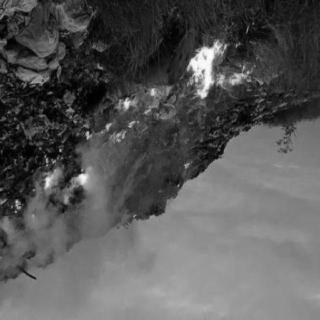Fire: (180, 42, 253, 104), (100, 124, 128, 150), (76, 167, 90, 197), (144, 90, 162, 104), (12, 197, 24, 215)
Smoke: (79, 202, 117, 270)
